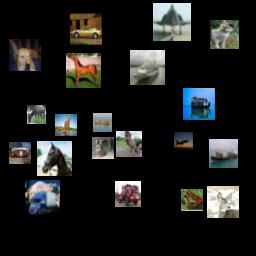airplane: (153, 3, 191, 41), (174, 132, 193, 151)
automobile: (70, 13, 102, 45)
cat: (210, 20, 239, 49), (92, 137, 114, 159)
deer: (207, 186, 239, 218), (27, 105, 46, 124)
dog: (9, 39, 41, 71)
frog: (181, 189, 203, 211)
ship: (130, 50, 165, 85), (183, 88, 215, 120), (209, 139, 238, 168), (55, 114, 77, 136), (93, 113, 112, 132)
truck: (25, 180, 60, 215), (115, 181, 141, 207), (9, 142, 31, 164)
